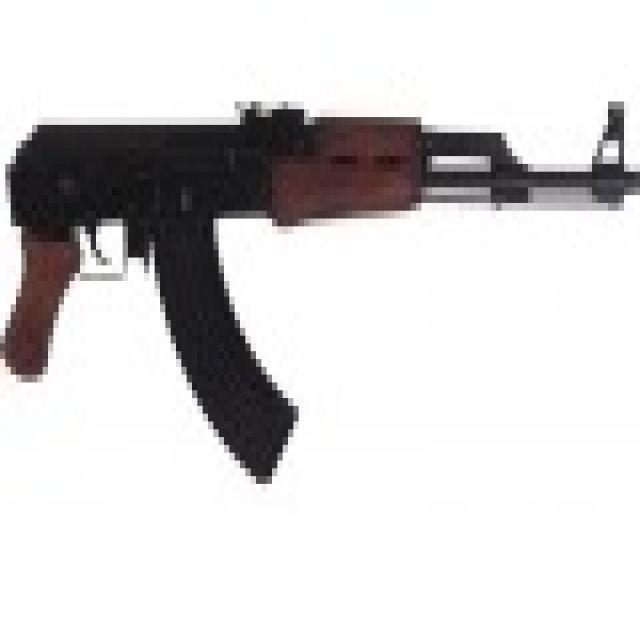Gun: (9, 62, 624, 512)
